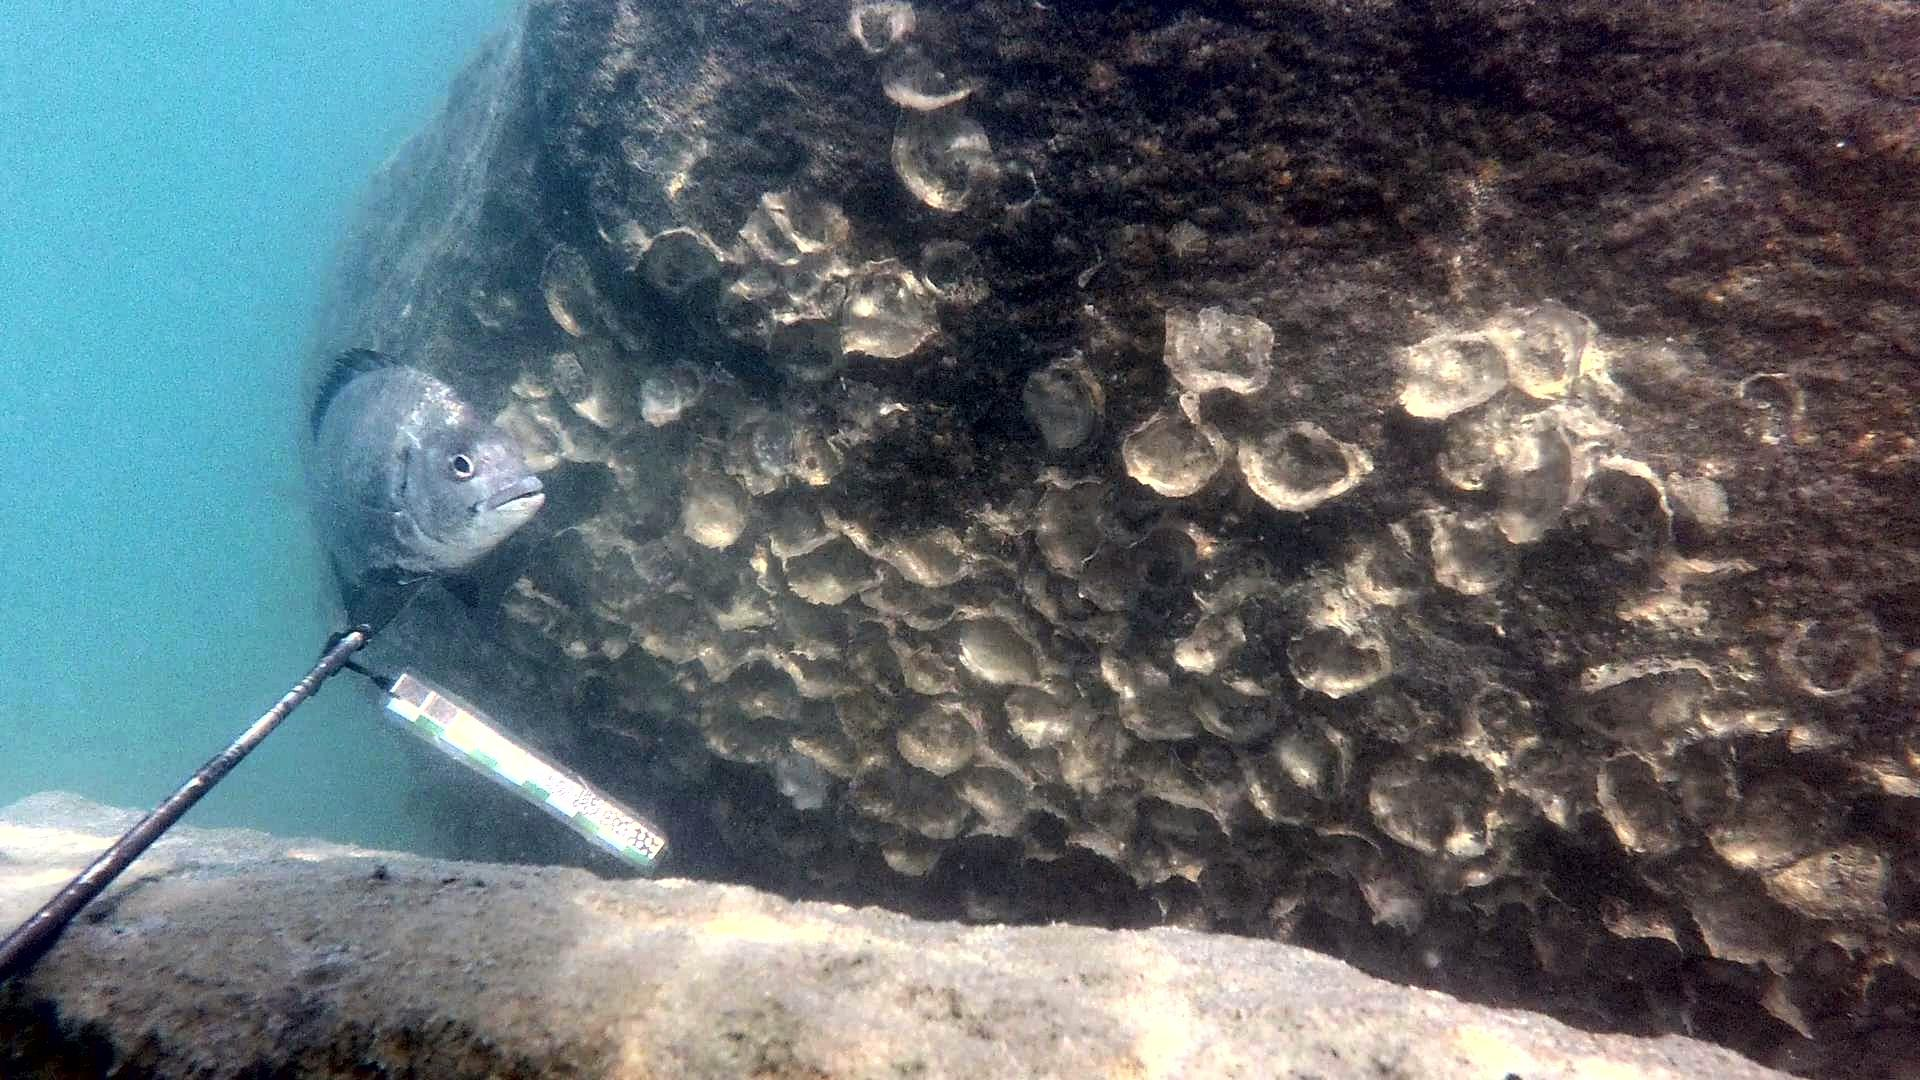acanthopagrus palmaris: (277, 342, 549, 653)
